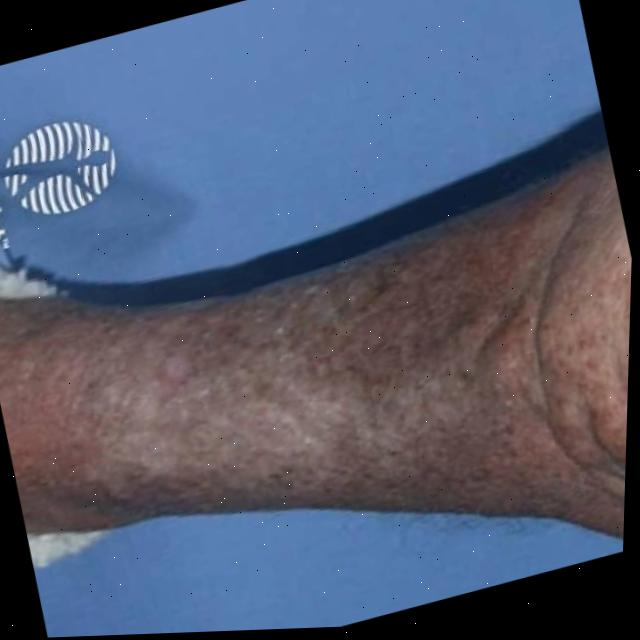Eczema: (47, 197, 548, 555)
